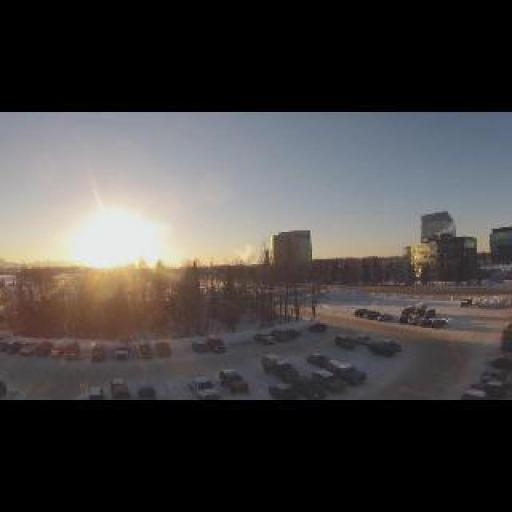smoke: (435, 222, 459, 237)
